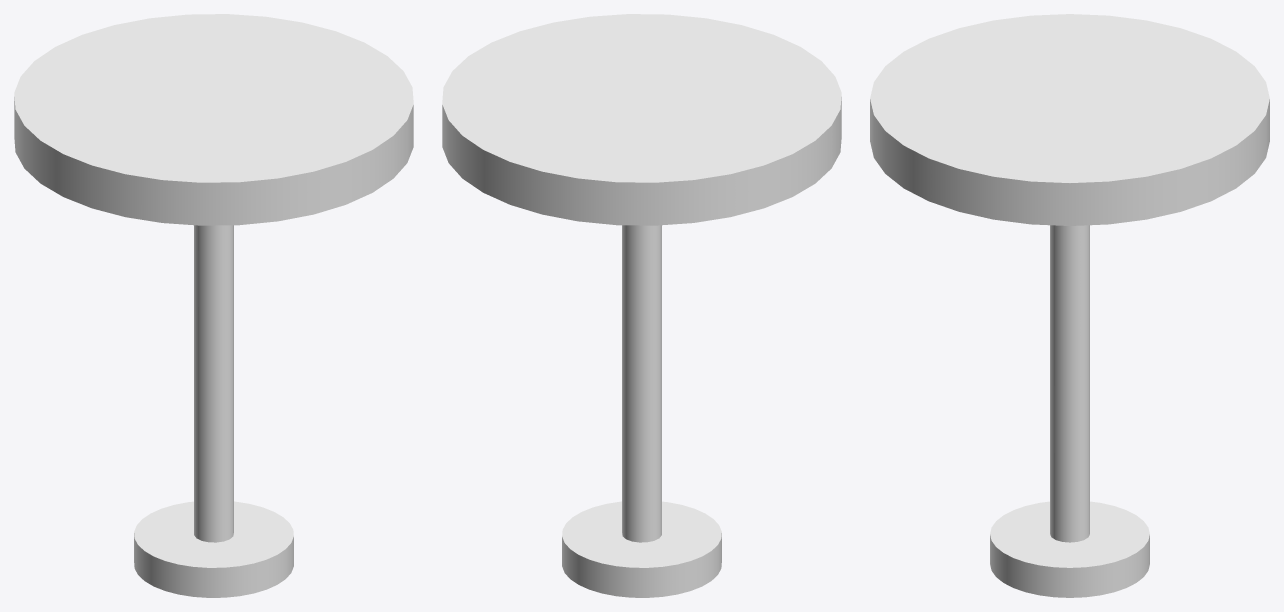
The model's file is high-co-table.obj.
3 views of the same model, side by side, from view 1: azimuth 30°, elevation 25°; view 2: azimuth 150°, elevation 25°; view 3: azimuth 270°, elevation 25° (orthographic).
Visible parts, largest first — view 1: high-co-table; view 2: high-co-table; view 3: high-co-table.
Part boxes in pixels (x1,y1,x2,y2): high-co-table: [14, 14, 413, 597]; high-co-table: [442, 14, 841, 597]; high-co-table: [870, 14, 1269, 597].
Bounding box in the file's own units: 0.8722 × 1.12 × 0.8712.
Materials: 1 (1 with a texture image).
